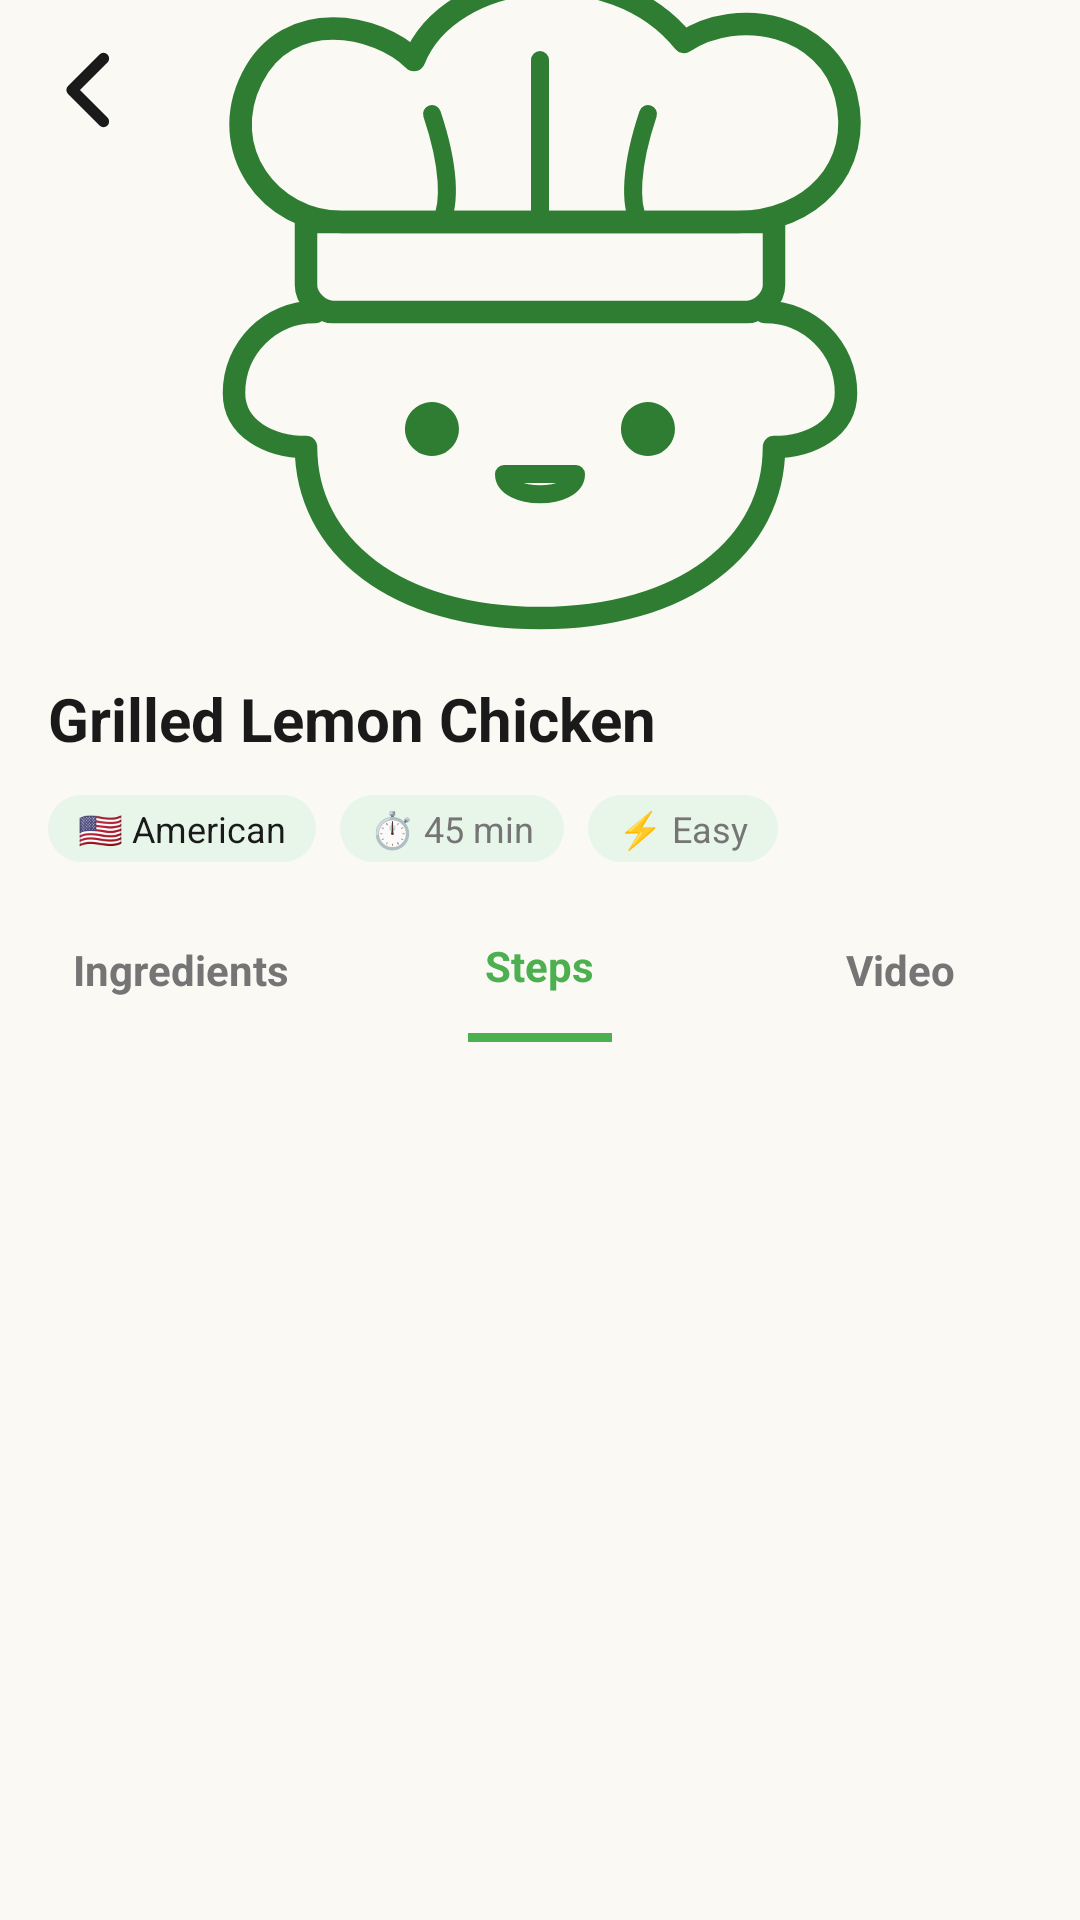

Named icons in this screenshot (1080x1920) and their bounding boxes, rect(x1, y1, x2, y2):
Go back: rect(66, 52, 109, 128)
